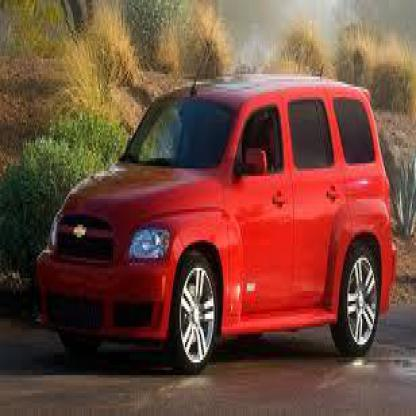Vehicle: (35, 77, 399, 375)
